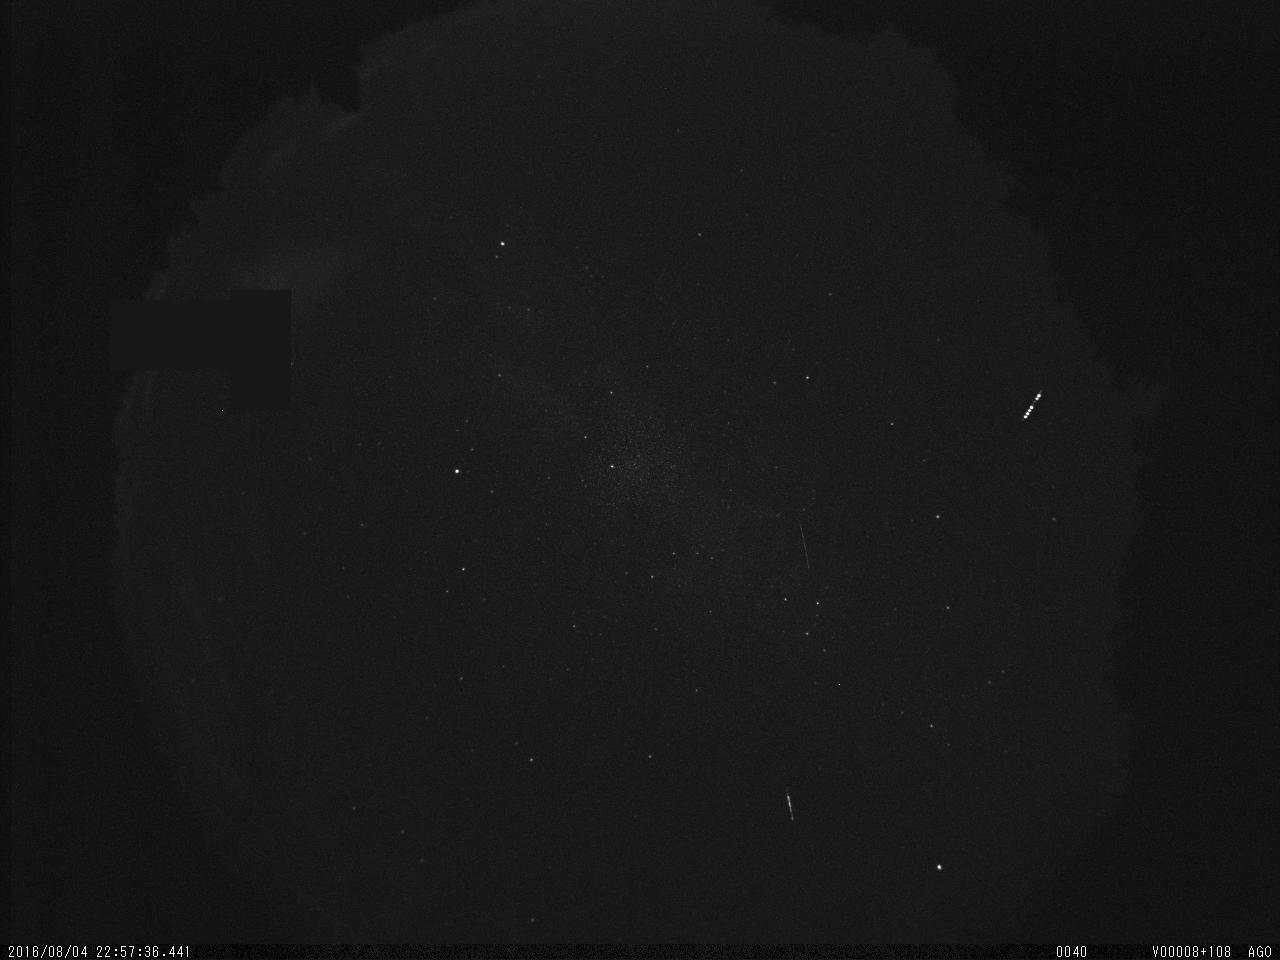meteor: (778, 769, 799, 839)
satelite: (1017, 383, 1048, 428)
